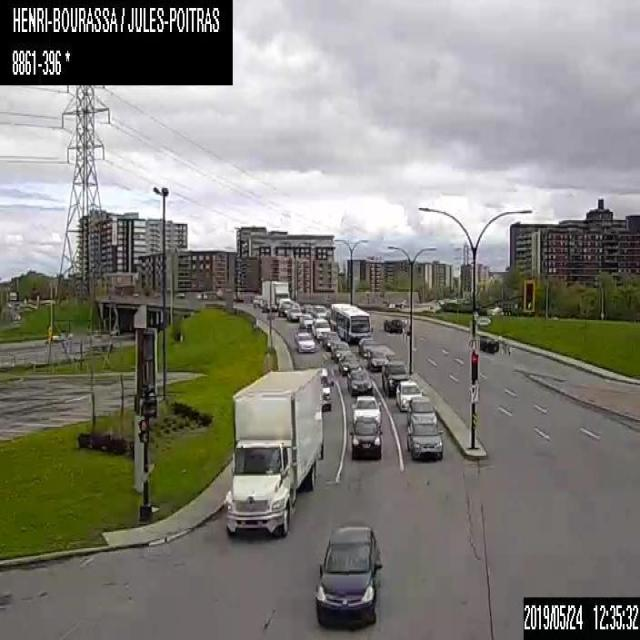bus: (330, 302, 372, 344)
vehicle: (223, 365, 323, 536), (315, 524, 379, 624), (407, 414, 444, 458), (348, 415, 382, 459), (350, 394, 382, 426), (381, 360, 408, 396), (406, 396, 437, 427), (261, 279, 289, 311), (396, 379, 421, 411), (346, 368, 372, 394), (338, 351, 359, 375), (368, 349, 388, 372), (382, 316, 409, 333), (320, 365, 330, 410), (477, 334, 499, 354), (331, 341, 350, 362), (311, 318, 329, 340), (296, 332, 315, 352), (320, 330, 340, 348), (358, 336, 375, 356), (277, 297, 291, 316), (298, 312, 313, 328), (312, 303, 327, 318), (286, 306, 301, 320), (301, 303, 312, 313)
